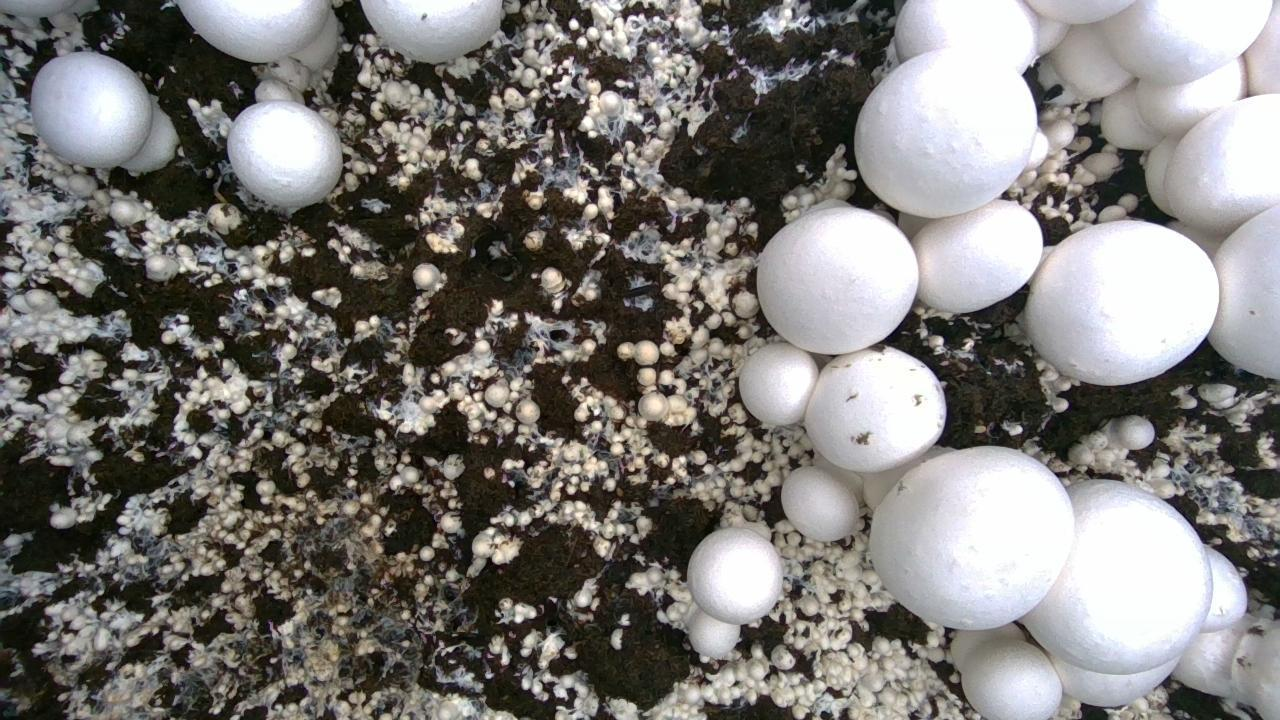WB: (870, 446, 1073, 629), (1022, 479, 1211, 673), (1024, 220, 1219, 385), (855, 48, 1036, 218), (757, 205, 918, 354), (804, 346, 945, 472), (1167, 92, 1280, 234), (912, 199, 1042, 313), (1101, 0, 1271, 84), (31, 52, 152, 167), (227, 100, 342, 207), (1208, 205, 1279, 378), (895, 0, 1035, 71), (178, 0, 329, 62), (687, 527, 782, 624), (361, 0, 503, 63), (1136, 57, 1246, 136), (961, 638, 1061, 719), (1049, 654, 1179, 706), (739, 342, 819, 424), (1049, 23, 1132, 97), (781, 466, 858, 541), (1101, 81, 1161, 150)
